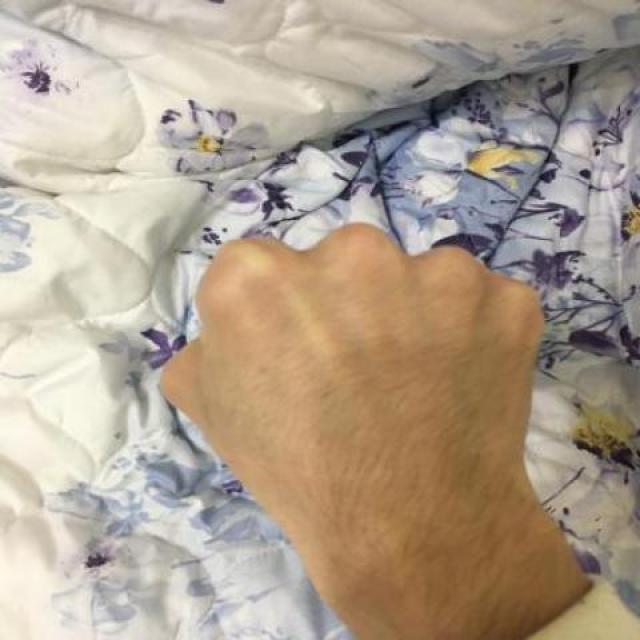Closed Hand: (137, 221, 592, 583)
